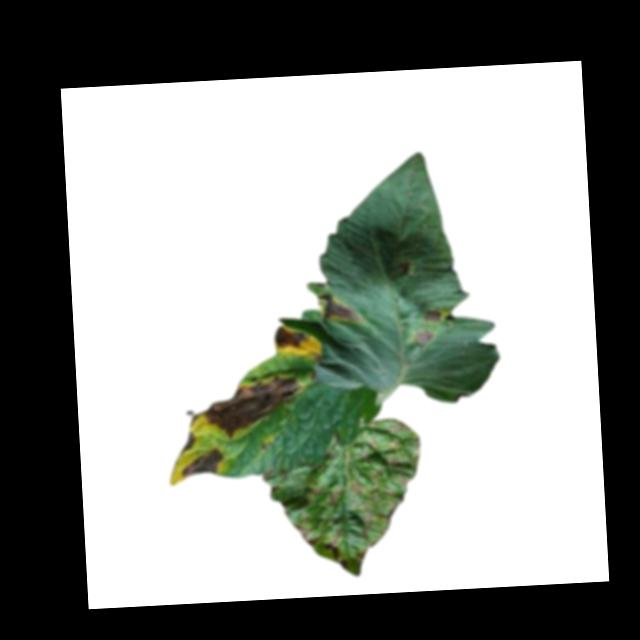Early_blight: (200, 371, 306, 440), (316, 289, 362, 326), (178, 447, 224, 477), (268, 322, 308, 351), (324, 525, 348, 568), (291, 518, 323, 546), (419, 303, 442, 323), (177, 429, 194, 453), (414, 327, 435, 346)
